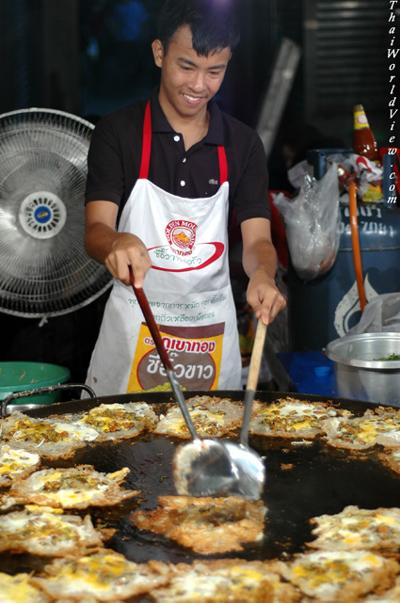person: (79, 3, 286, 399)
